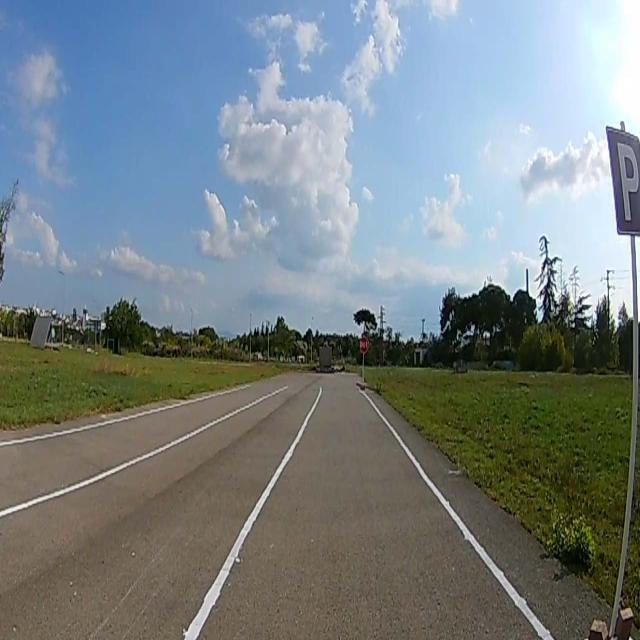park: (605, 124, 640, 236)
